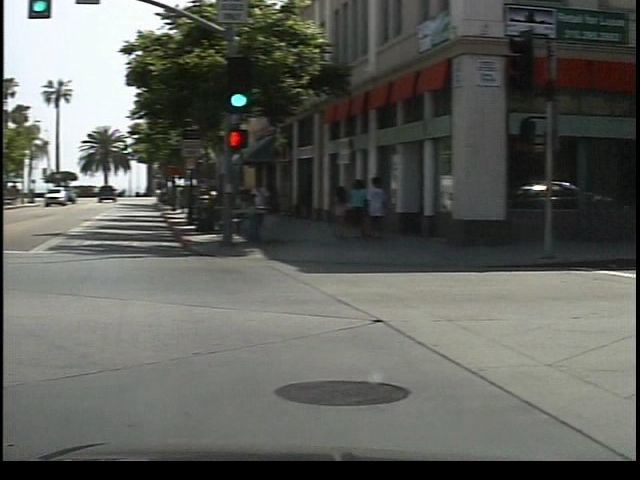person: (259, 175, 286, 236)
